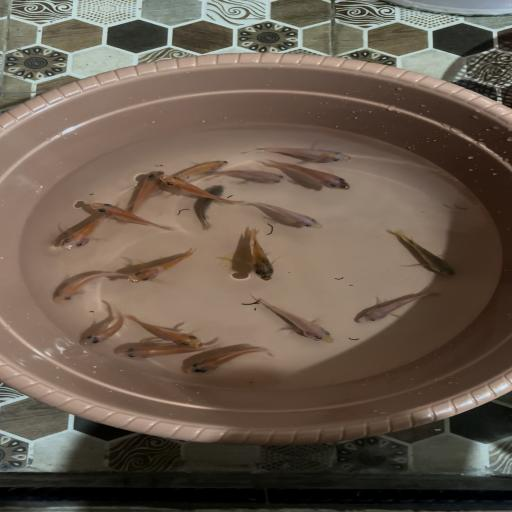nila: (382, 228, 464, 282), (252, 296, 336, 346), (123, 244, 201, 288), (171, 345, 278, 376), (350, 290, 440, 326), (111, 336, 225, 363), (53, 266, 125, 308), (87, 200, 181, 232), (131, 312, 207, 350), (241, 198, 330, 230), (244, 143, 363, 166), (48, 215, 113, 257), (159, 175, 250, 204), (275, 161, 357, 193), (244, 228, 288, 284), (71, 310, 128, 348), (126, 166, 166, 219), (192, 184, 227, 232), (170, 156, 230, 183), (204, 169, 294, 184)
